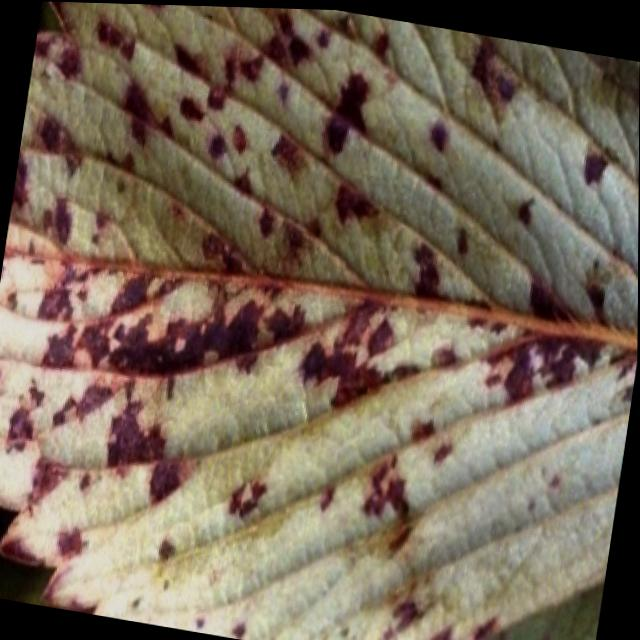Angular Leafspot: (0, 1, 640, 640)
